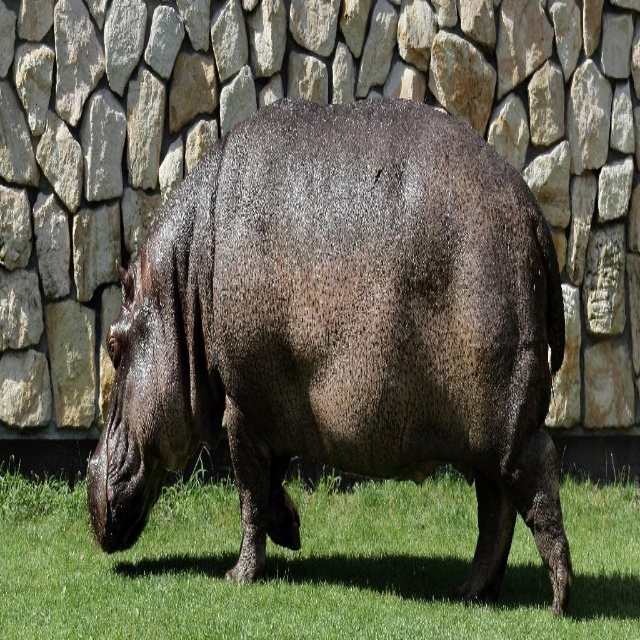Hippopotamus: (86, 97, 573, 617)
